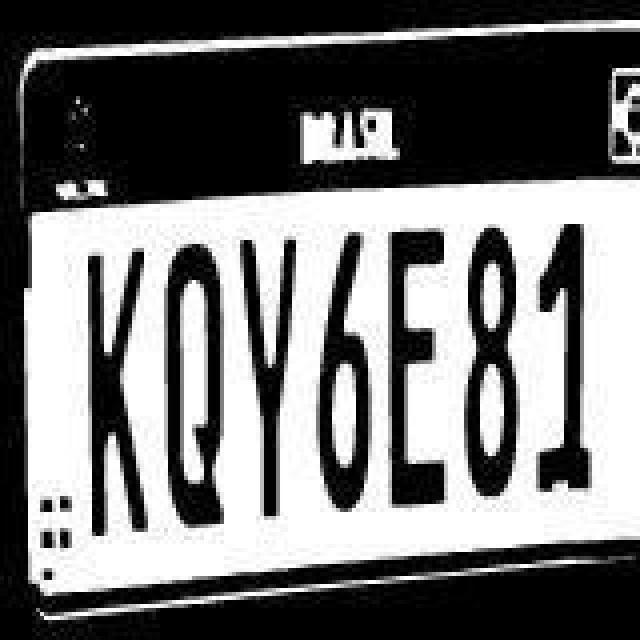1: (534, 212, 602, 524)
6: (310, 218, 378, 534)
8: (460, 218, 524, 526)
E: (380, 214, 452, 530)
K: (80, 226, 152, 550)
Q: (156, 218, 228, 534)
Y: (238, 212, 306, 532)
